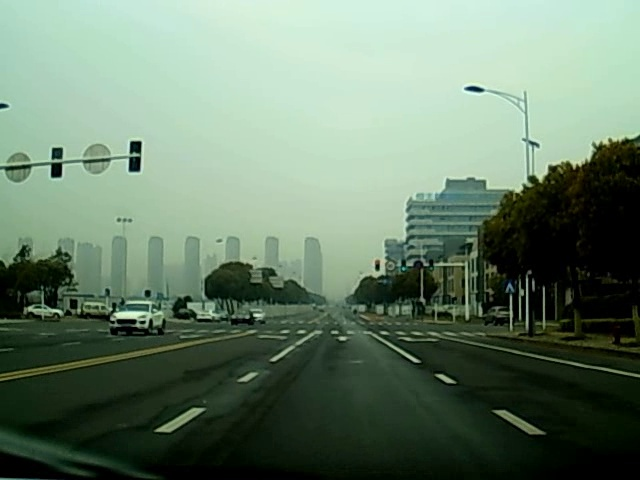Traffic_Light_go: (400, 258, 408, 274)
Traffic_Light_stop: (374, 258, 383, 275)
